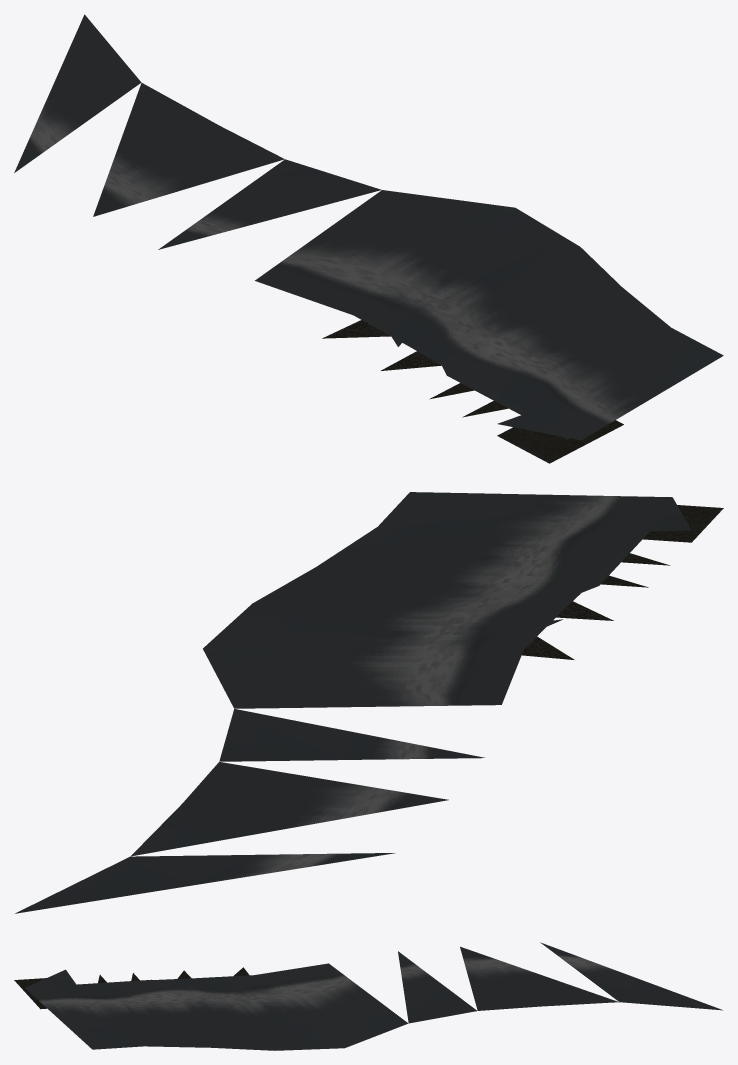
Rendered from cell_19_-5.gltf.
3 views of the same model, one above another, from view 1: azimuth 30°, elevation 25°; view 2: azimuth 150°, elevation 25°; view 3: azimuth 270°, elevation 25° (orthographic). The views are drawn at different scales.
Visible parts, largest first — view 1: cell_19_-5; view 2: cell_19_-5; view 3: cell_19_-5.
Part boxes in pixels (box(x1,y1,x2,y2)): cell_19_-5: box(14, 14, 723, 463); cell_19_-5: box(15, 492, 723, 913); cell_19_-5: box(14, 942, 722, 1050).
Size of the model in its own units: 46.59 by 1.49 by 131.
Materials: 3 (3 with a texture image).
